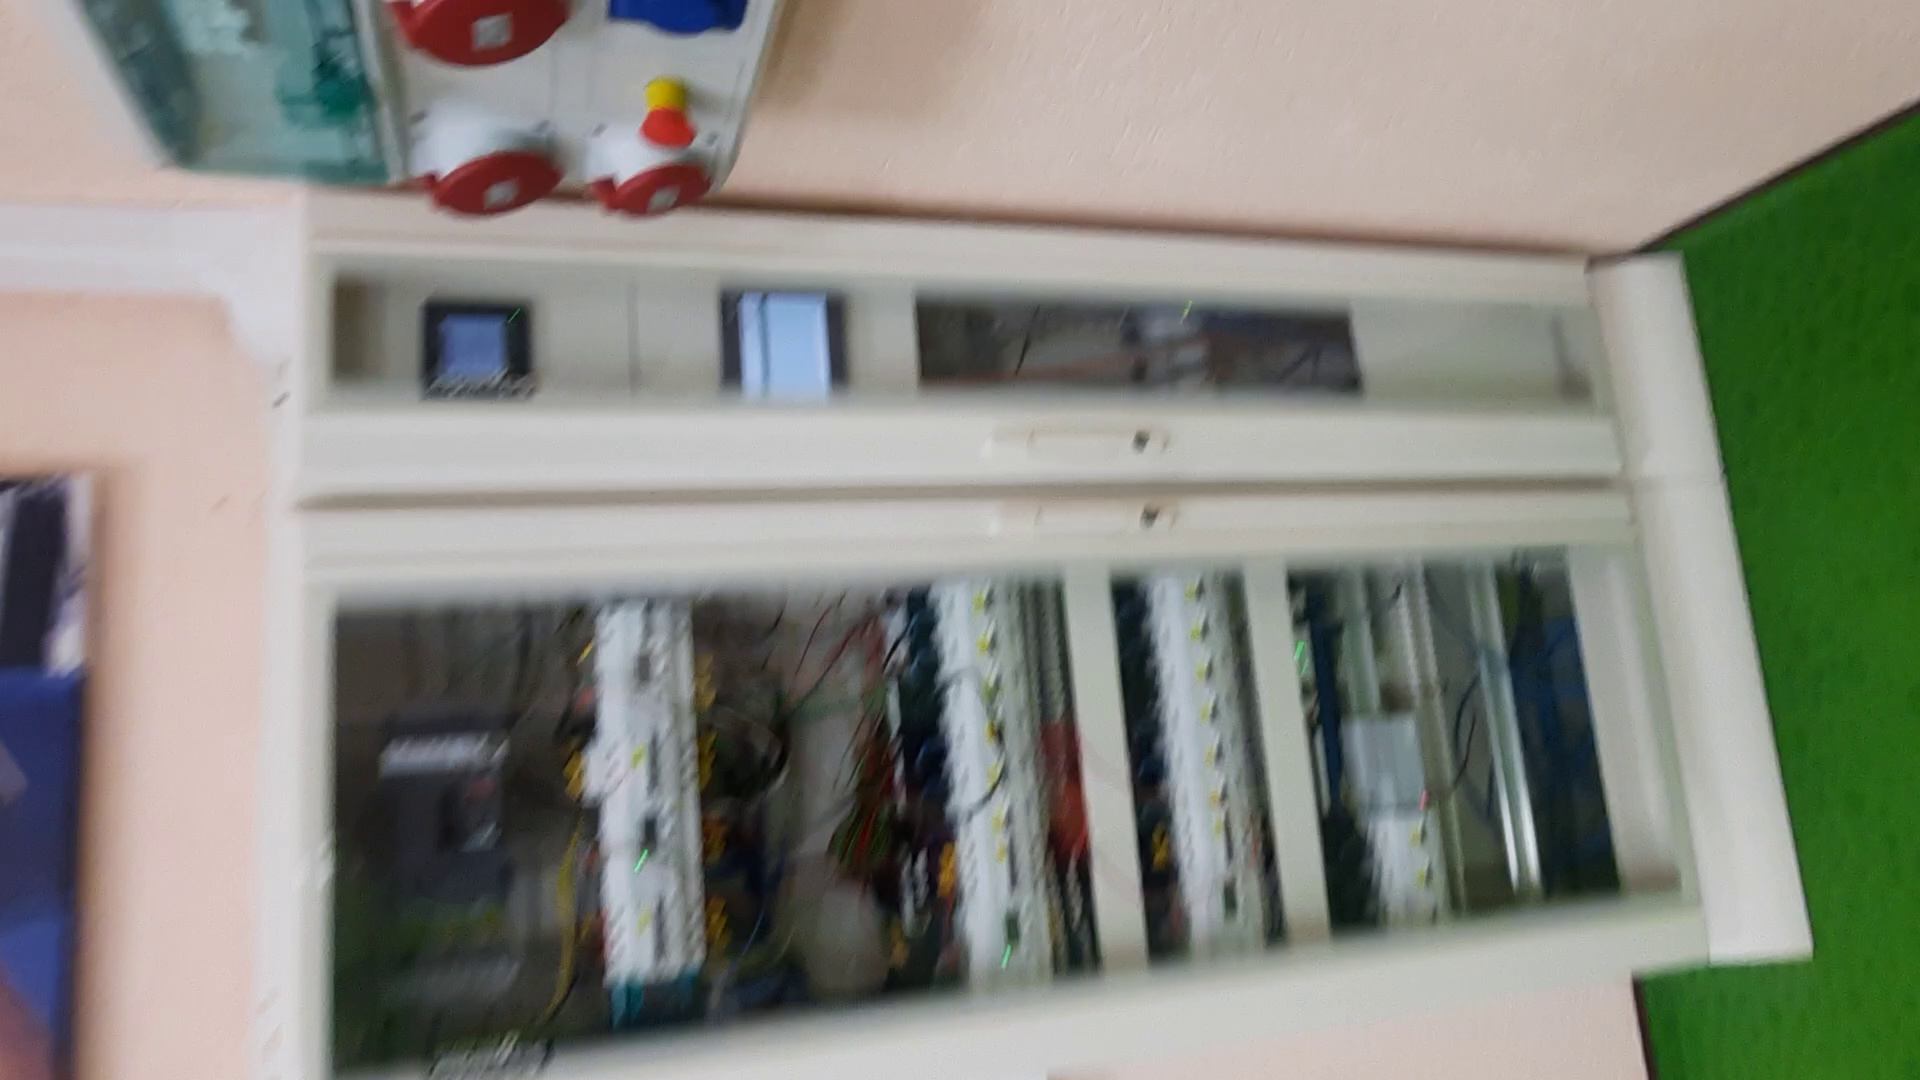stand1: (276, 194, 1807, 1068)
